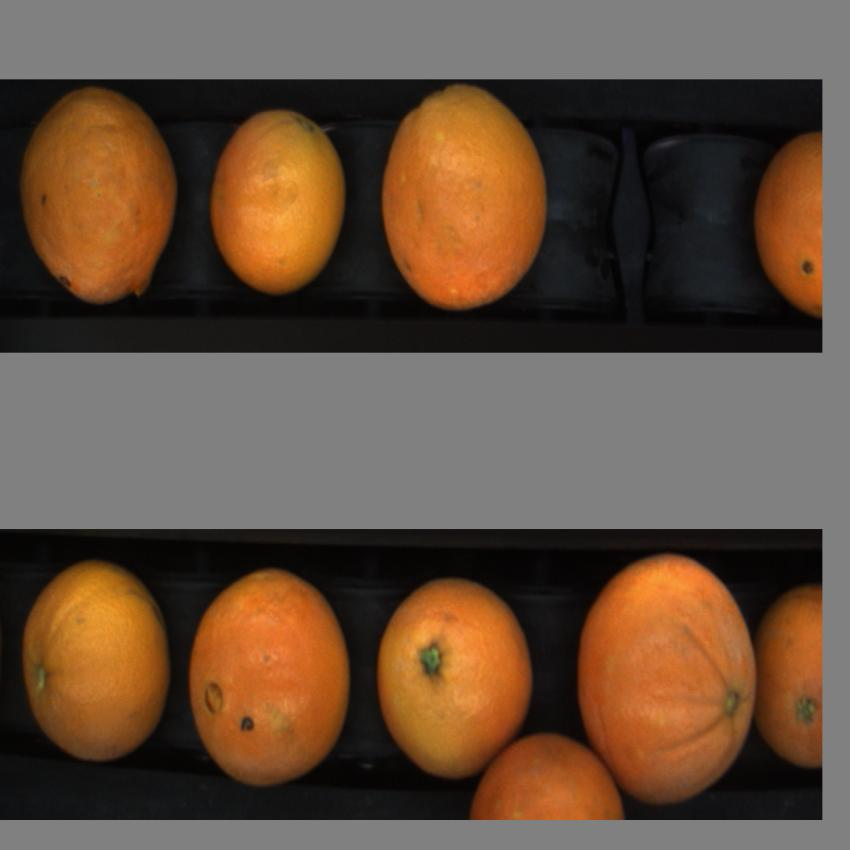Buen estado: (373, 87, 563, 307), (14, 82, 185, 311), (188, 568, 355, 786), (18, 564, 178, 761), (376, 582, 537, 775), (206, 98, 350, 311), (462, 728, 630, 823), (747, 123, 823, 324), (756, 577, 820, 777)
Mal estado: (576, 546, 760, 802)
